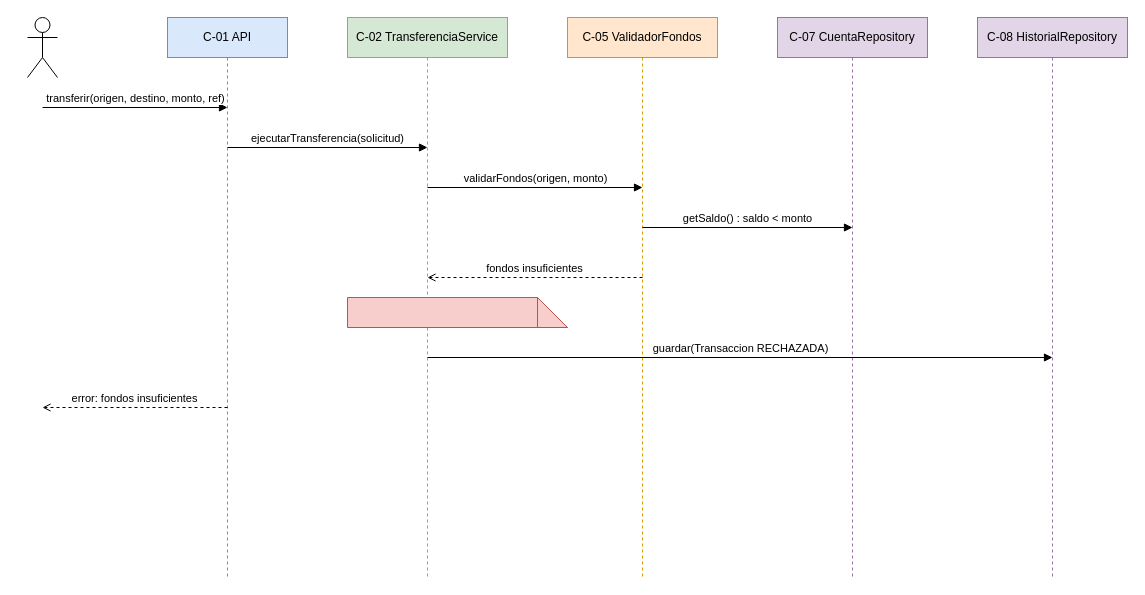
Image size: 1145x595. Some labels were removed from this diagram. The shapes that lost their labels are listed below. From the top down, each one's centre as x and y in pixels, then its label:
[42,47]: Operador
[457,312]: No se modifica ningún saldo
